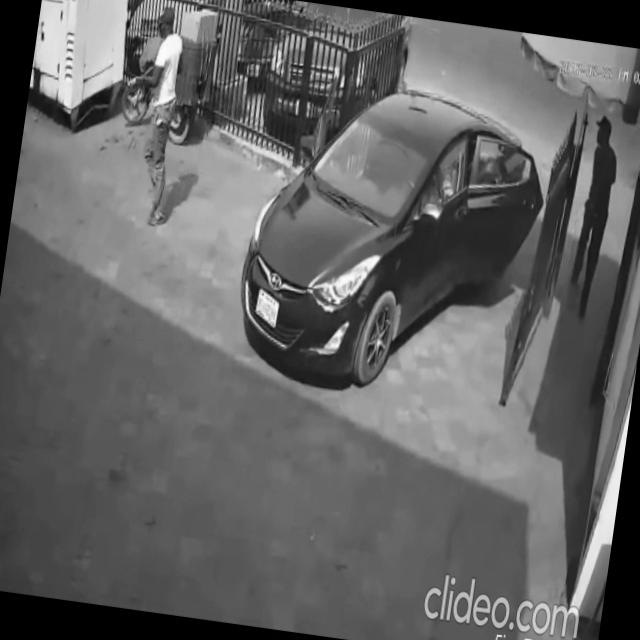gun: (120, 58, 160, 105)
person: (564, 111, 626, 326)
person with a gun: (103, 0, 202, 229)
